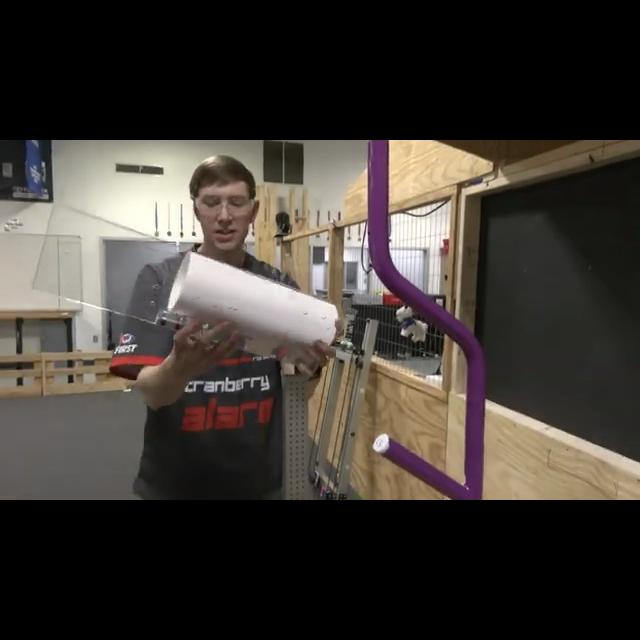CORAL: (160, 249, 340, 357)
